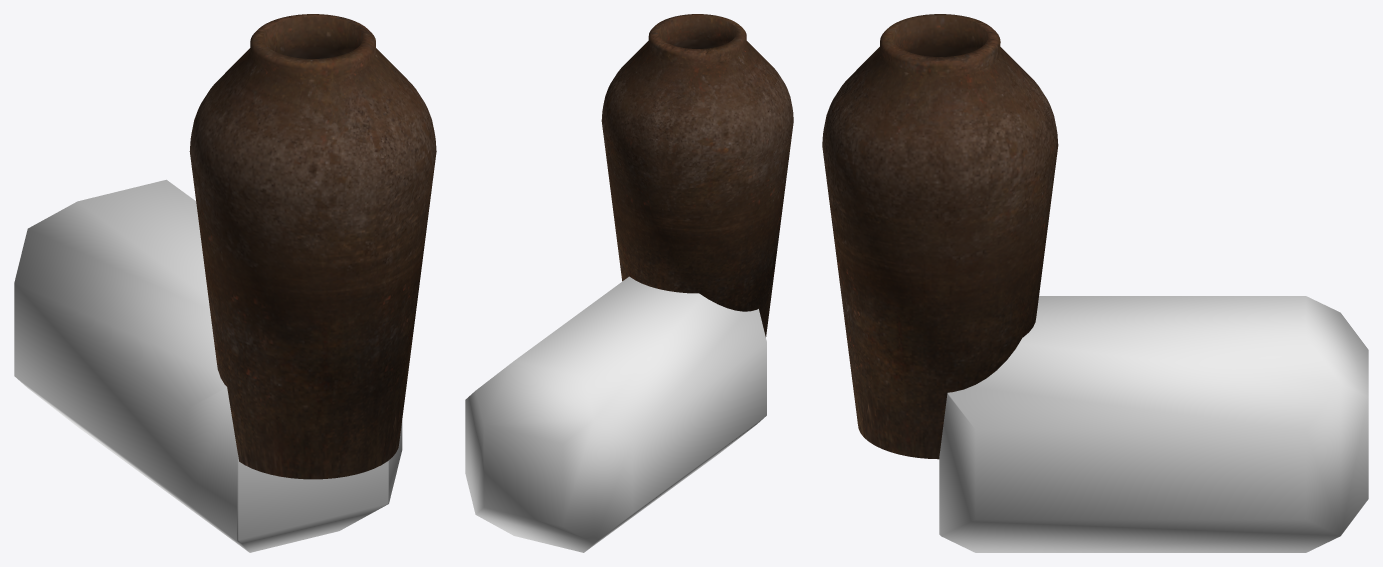
The model's file is SM_Ceramics_C.fbx.
3 views of the same model, side by side, from view 1: azimuth 30°, elevation 25°; view 2: azimuth 150°, elevation 25°; view 3: azimuth 270°, elevation 25° (orthographic). The views are drawn at different scales.
Parts seen in each view (by area): view 1: SM_Ceramics_C, SM_Ceramics_C_ConvexHulls; view 2: SM_Ceramics_C_ConvexHulls, SM_Ceramics_C; view 3: SM_Ceramics_C_ConvexHulls, SM_Ceramics_C.
Part boxes in pixels (x1,y1,x2,y2): SM_Ceramics_C: (189, 14, 436, 479); SM_Ceramics_C_ConvexHulls: (14, 179, 402, 552); SM_Ceramics_C_ConvexHulls: (465, 276, 766, 552); SM_Ceramics_C: (601, 14, 793, 336); SM_Ceramics_C_ConvexHulls: (939, 296, 1368, 552); SM_Ceramics_C: (822, 14, 1058, 459).
Bounding box in the file's own units: 0.3053 × 0.7022 × 0.7023.
